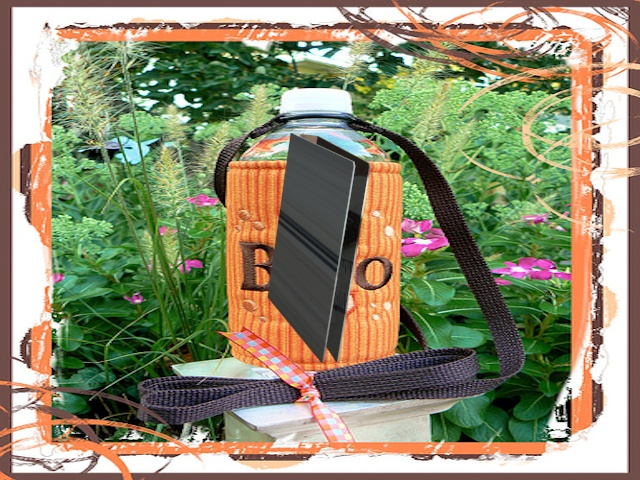ring_binder: (265, 128, 384, 368)
